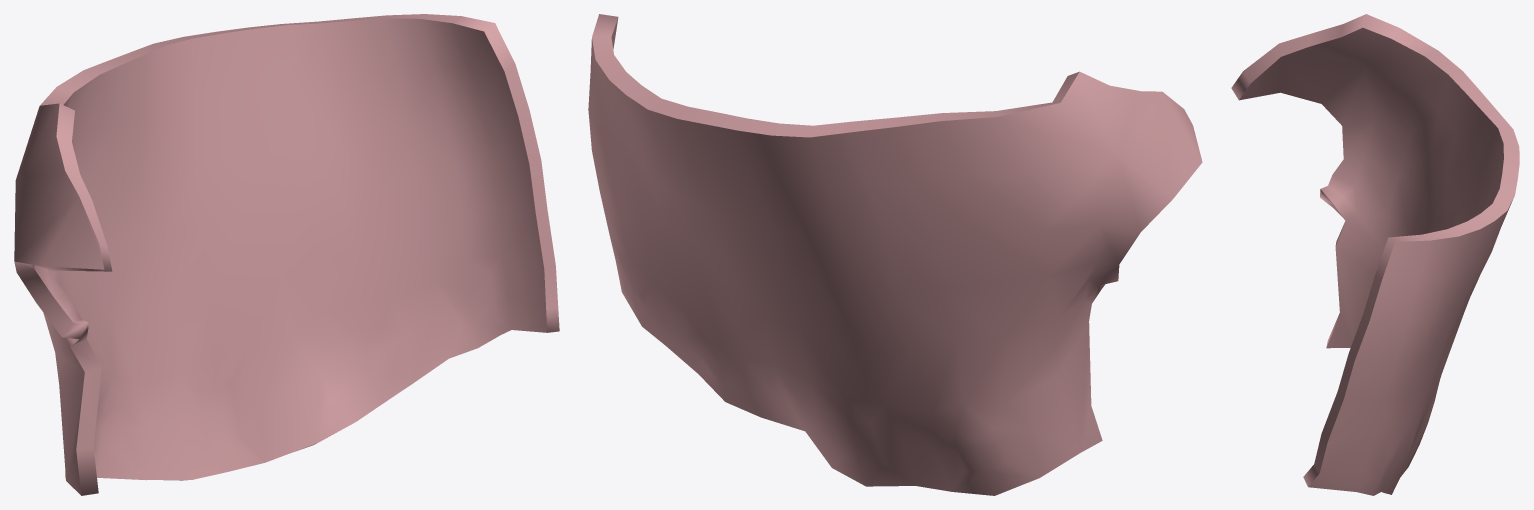
3 renders of one model, left to right at view 1: azimuth 30°, elevation 25°; view 2: azimuth 150°, elevation 25°; view 3: azimuth 270°, elevation 25°, orthographic. The views are drawn at different scales.
Parts seen in each view (by area): view 1: ZA_f016fcca003fbc58; view 2: ZA_f016fcca003fbc58; view 3: ZA_f016fcca003fbc58.
Part boxes in pixels (bbox=[...]): ZA_f016fcca003fbc58: bbox=[14, 14, 559, 495]; ZA_f016fcca003fbc58: bbox=[588, 14, 1202, 495]; ZA_f016fcca003fbc58: bbox=[1231, 14, 1519, 495].
Bounding box in the file's own units: 0.0989 × 0.075 × 0.0523.
